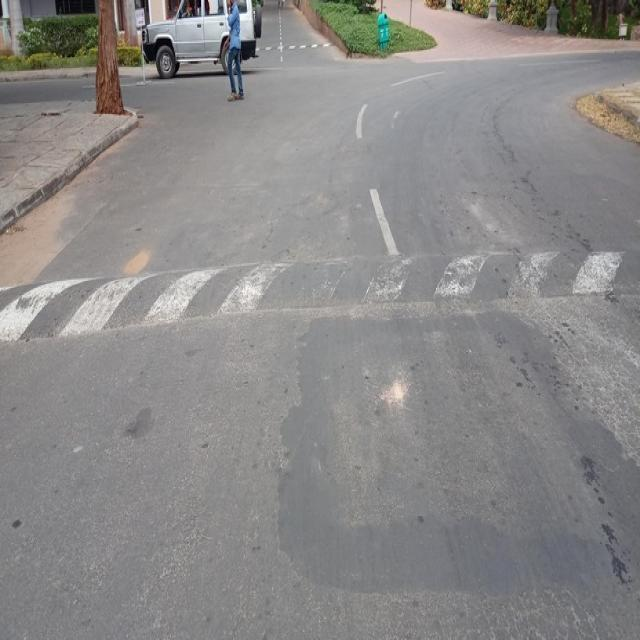speedbreaker: (0, 235, 640, 339)
